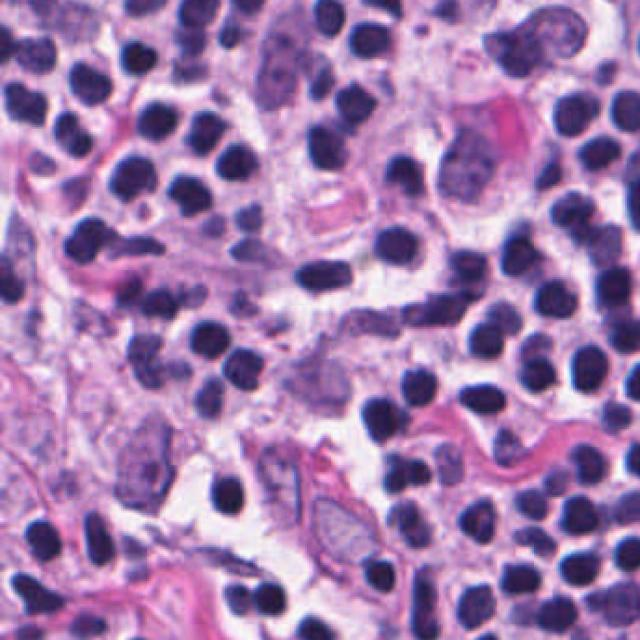fibroblast: (255, 0, 311, 111), (154, 535, 279, 579), (283, 336, 346, 411), (251, 440, 301, 520), (54, 290, 119, 341), (32, 166, 91, 220), (532, 129, 569, 215), (406, 561, 439, 640), (333, 307, 407, 341), (400, 291, 469, 327), (231, 234, 300, 270), (84, 381, 117, 451), (100, 229, 166, 261), (409, 198, 452, 247), (43, 459, 80, 504)
lymphocyte: (123, 327, 179, 386), (303, 111, 350, 170), (7, 568, 65, 613), (329, 79, 376, 132), (554, 488, 607, 535), (381, 495, 428, 547), (549, 88, 599, 136), (368, 220, 419, 265), (80, 506, 121, 561), (290, 254, 350, 291), (567, 338, 608, 392), (590, 257, 631, 311), (180, 107, 225, 156), (106, 154, 156, 198), (160, 170, 208, 215), (530, 274, 579, 318), (63, 59, 110, 104), (571, 129, 620, 172), (0, 77, 45, 123), (381, 150, 424, 198), (218, 341, 260, 388), (184, 316, 231, 358), (452, 579, 493, 627), (212, 138, 257, 181), (130, 97, 177, 138), (580, 216, 620, 263), (567, 440, 607, 486), (454, 493, 493, 540), (502, 231, 543, 275), (20, 515, 60, 560), (396, 363, 437, 406), (493, 427, 534, 470), (495, 558, 540, 597), (13, 30, 54, 72), (558, 543, 599, 585), (601, 307, 640, 350), (549, 189, 590, 229), (363, 395, 404, 434), (205, 470, 242, 513), (456, 381, 502, 415), (166, 48, 212, 82), (521, 325, 558, 365), (119, 36, 156, 72), (359, 554, 396, 590), (510, 522, 554, 552), (467, 316, 500, 356), (486, 300, 519, 340), (592, 402, 634, 433), (521, 359, 558, 392), (255, 577, 283, 617), (61, 236, 102, 263), (24, 145, 58, 175), (227, 579, 255, 615), (447, 248, 484, 275), (510, 493, 545, 520), (74, 216, 108, 243), (141, 286, 175, 313), (385, 470, 417, 497), (579, 586, 610, 613), (545, 461, 569, 493), (411, 458, 435, 488), (510, 597, 536, 624), (52, 111, 74, 134)
macrophage: (108, 409, 177, 520), (303, 483, 381, 561)
unlabeled: (433, 438, 465, 492), (223, 284, 264, 320), (253, 307, 294, 341), (117, 274, 151, 309), (190, 381, 223, 413), (234, 200, 262, 236), (197, 209, 225, 245), (71, 123, 97, 152)
vascular_endothelium: (435, 100, 497, 198)
